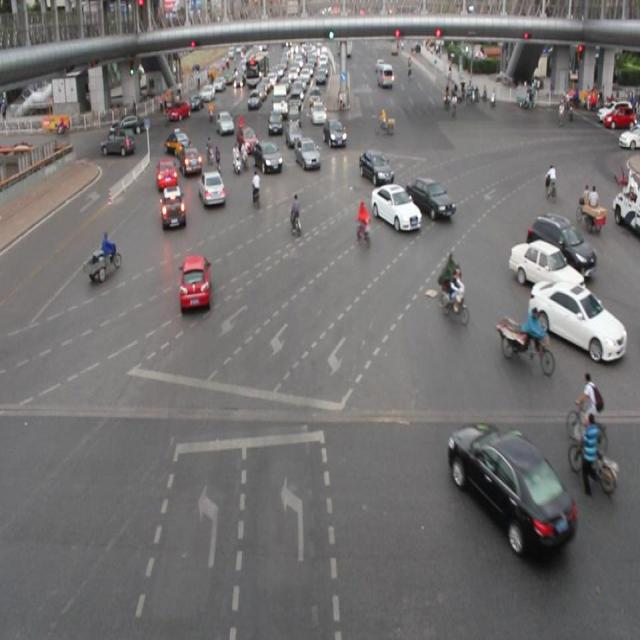car: (448, 429, 570, 544), (528, 281, 620, 355), (509, 239, 584, 297), (525, 214, 596, 272), (370, 183, 420, 231), (405, 174, 456, 221), (180, 253, 212, 310), (359, 149, 393, 185), (159, 187, 187, 230), (199, 168, 225, 207), (293, 136, 321, 172), (253, 140, 281, 174), (179, 146, 205, 177), (155, 157, 178, 190)
